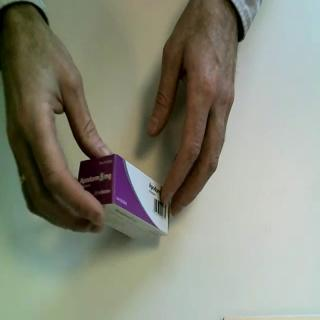apodonorm5mg: (77, 154, 172, 242)
